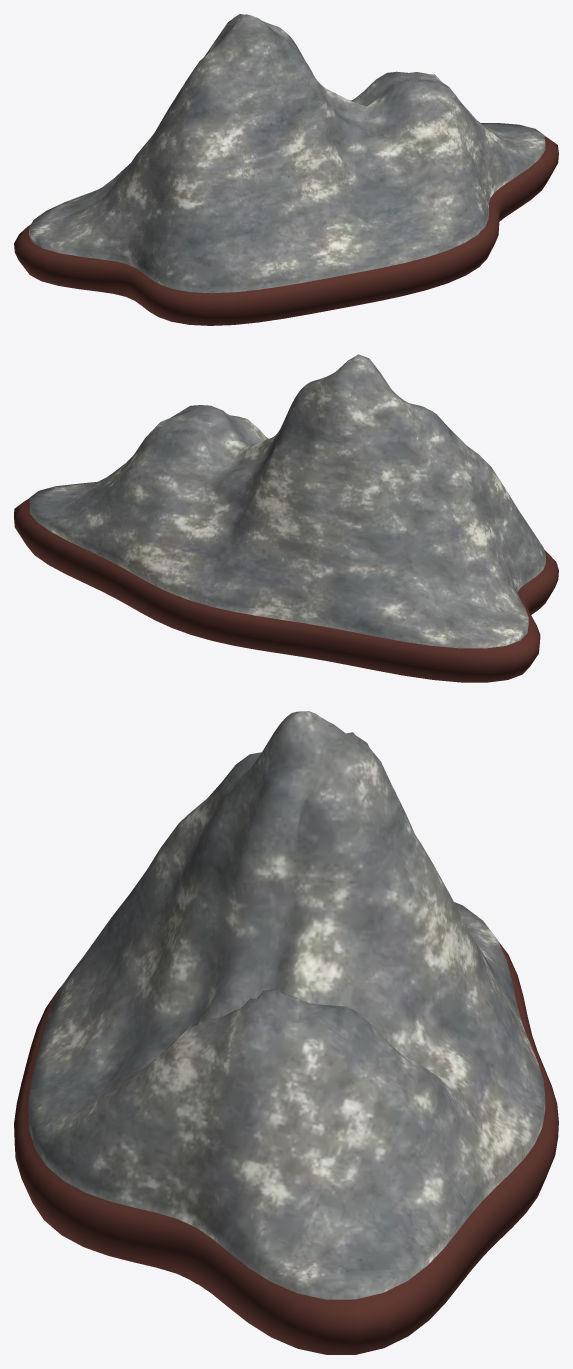
File: suiseki-recreation-v51.glb
3 views of the same model, one above another, from view 1: azimuth 30°, elevation 25°; view 2: azimuth 150°, elevation 25°; view 3: azimuth 270°, elevation 25° (orthographic). The views are drawn at different scales.
Visible parts, largest first — view 1: Kamogawaishi-Recreation, MahoganyDai; view 2: Kamogawaishi-Recreation, MahoganyDai; view 3: Kamogawaishi-Recreation, MahoganyDai.
Part boxes in pixels (<box>): Kamogawaishi-Recreation: <box>29,14,545,293</box>; MahoganyDai: <box>14,136,558,325</box>; Kamogawaishi-Recreation: <box>29,354,545,648</box>; MahoganyDai: <box>14,498,558,682</box>; Kamogawaishi-Recreation: <box>28,711,545,1299</box>; MahoganyDai: <box>14,941,558,1354</box>.
Size of the model in its own units: 0.472 by 0.2171 by 0.2596.
Materials: 2 (1 with a texture image).
